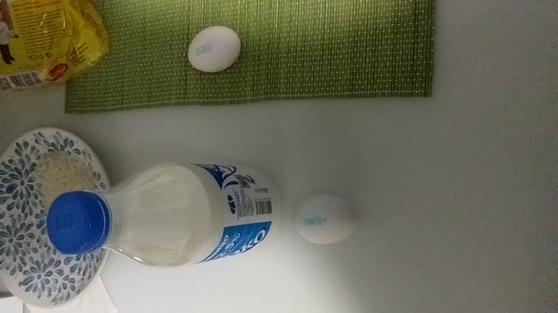egg: (287, 191, 367, 252), (177, 25, 246, 79)
milk: (39, 158, 283, 278)
